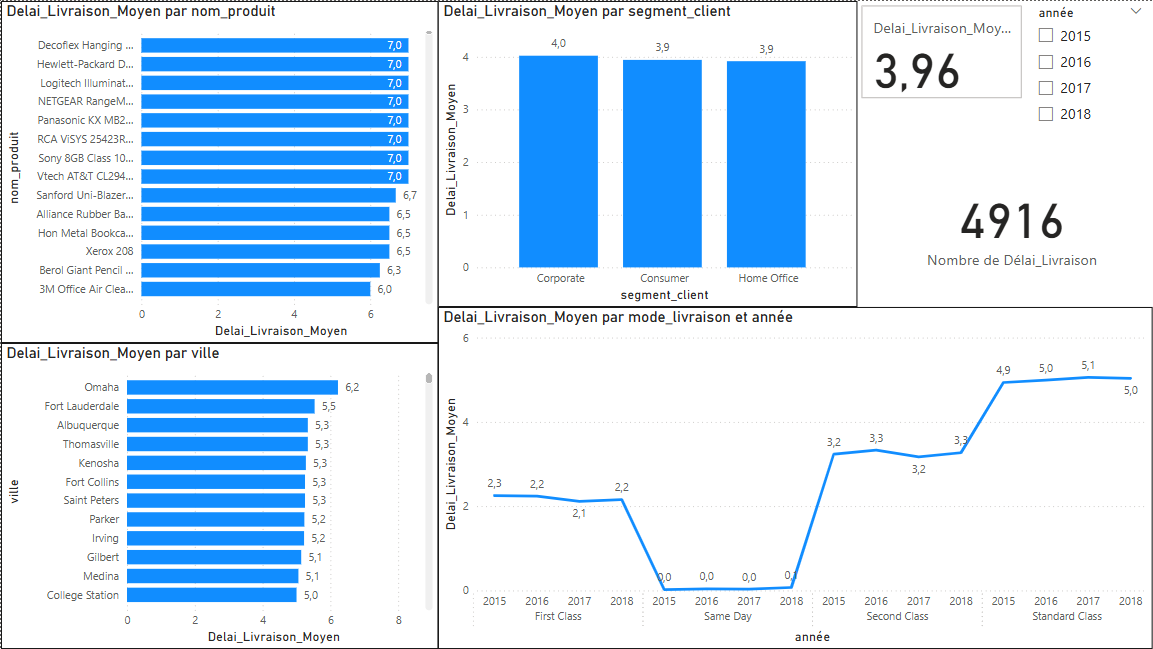

This screenshot's page, from the dashboard's own definition file:
{"tool":"powerbi","page":{"name":"Tableau de bord logistique / livraison","canvas":[1280,720],"ordinal":4},"visuals":[{"type":"card","fields":{"Values":["CountNonNull(Dim_Commande.Délai_Livraison)"]},"box":[1016.7,190,213.3,116.7],"z":0},{"type":"cardVisual","fields":{"Data":["Faits_Ventes.Delai_Livraison_Moyen"]},"box":[951.1,0,188.9,113.3],"z":1},{"type":"clusteredBarChart","fields":{"Category":["Dim_Lieu.ville"],"Y":["Faits_Ventes.Delai_Livraison_Moyen"]},"box":[0,380,485.6,340],"z":2},{"type":"clusteredColumnChart","fields":{"Y":["Faits_Ventes.Delai_Livraison_Moyen"],"Category":["Dim_Client.segment_client"]},"box":[485.6,0,465.6,340],"z":3},{"type":"clusteredBarChart","fields":{"Category":["Dim_Produit.nom_produit"],"Y":["Faits_Ventes.Delai_Livraison_Moyen"]},"box":[0,0,485.6,380],"z":4},{"type":"lineChart","fields":{"Y":["Faits_Ventes.Delai_Livraison_Moyen"],"Category":["Dim_Commande.mode_livraison","Dim_Temps.année"]},"box":[485.6,340,794.4,380],"z":5},{"type":"slicer","fields":{"Values":["Dim_Temps.année"]},"box":[1140,0,140,150],"z":6}]}

Visuals, with their boxes in screenshot pixels (x1, y1, x2, y2), scaled from the page's 1280x720 canvas onto the 1153x649 screenshot:
card - CountNonNull(Dim_Commande.Délai_Livraison): (916, 171, 1108, 276)
cardVisual - Faits_Ventes.Delai_Livraison_Moyen: (857, 0, 1027, 102)
clusteredBarChart - Dim_Lieu.ville x Faits_Ventes.Delai_Livraison_Moyen: (0, 343, 437, 648)
clusteredColumnChart - Faits_Ventes.Delai_Livraison_Moyen x Dim_Client.segment_client: (437, 0, 857, 306)
clusteredBarChart - Dim_Produit.nom_produit x Faits_Ventes.Delai_Livraison_Moyen: (0, 0, 437, 343)
lineChart - Faits_Ventes.Delai_Livraison_Moyen x Dim_Commande.mode_livraison: (437, 306, 1152, 648)
slicer - Dim_Temps.année: (1027, 0, 1152, 135)
